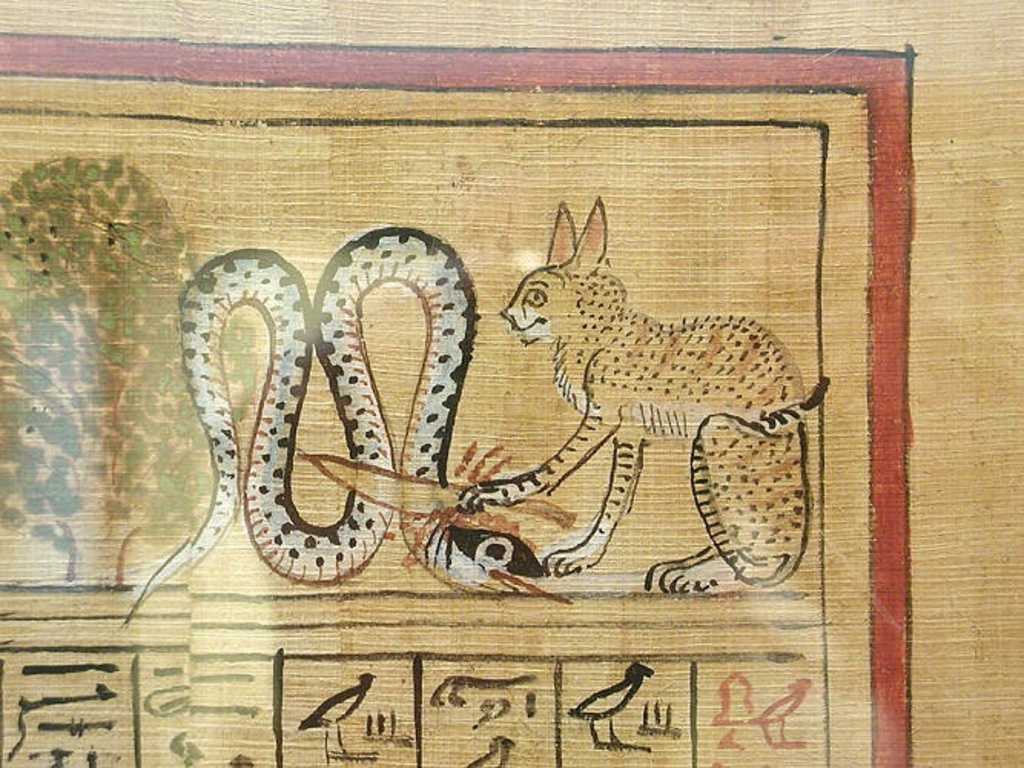Animal: (295, 197, 831, 612), (117, 224, 588, 634), (292, 675, 375, 764), (561, 669, 652, 746), (751, 673, 806, 750)
